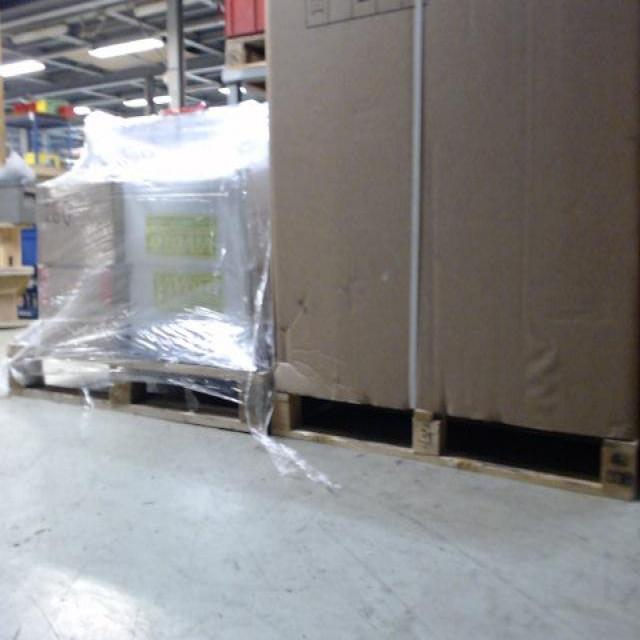pallet: (269, 387, 640, 505), (5, 341, 272, 436), (222, 33, 268, 69)
